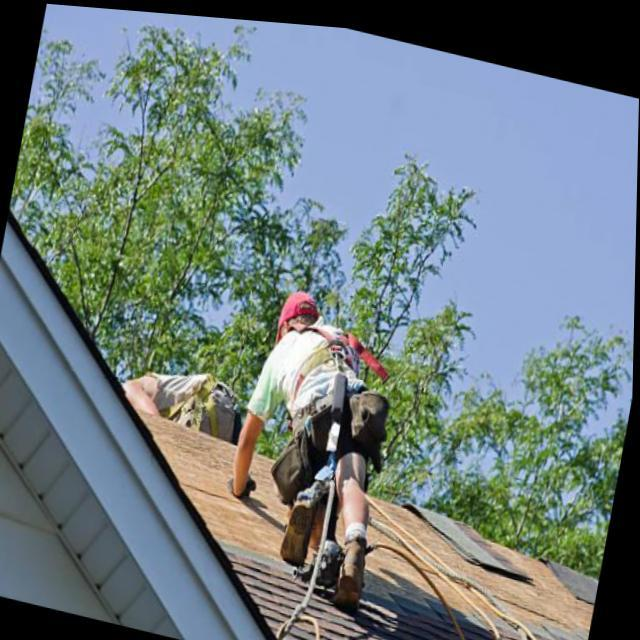belt: (274, 307, 388, 446)
